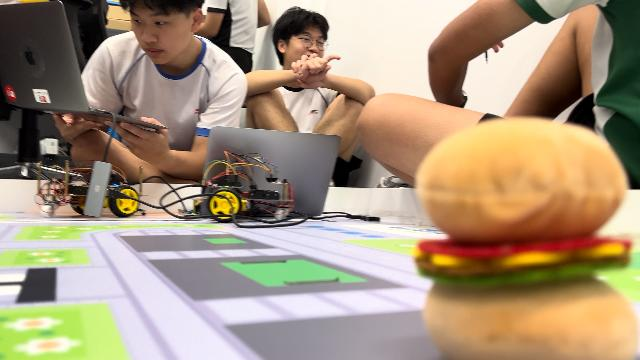burger: (412, 117, 640, 359)
